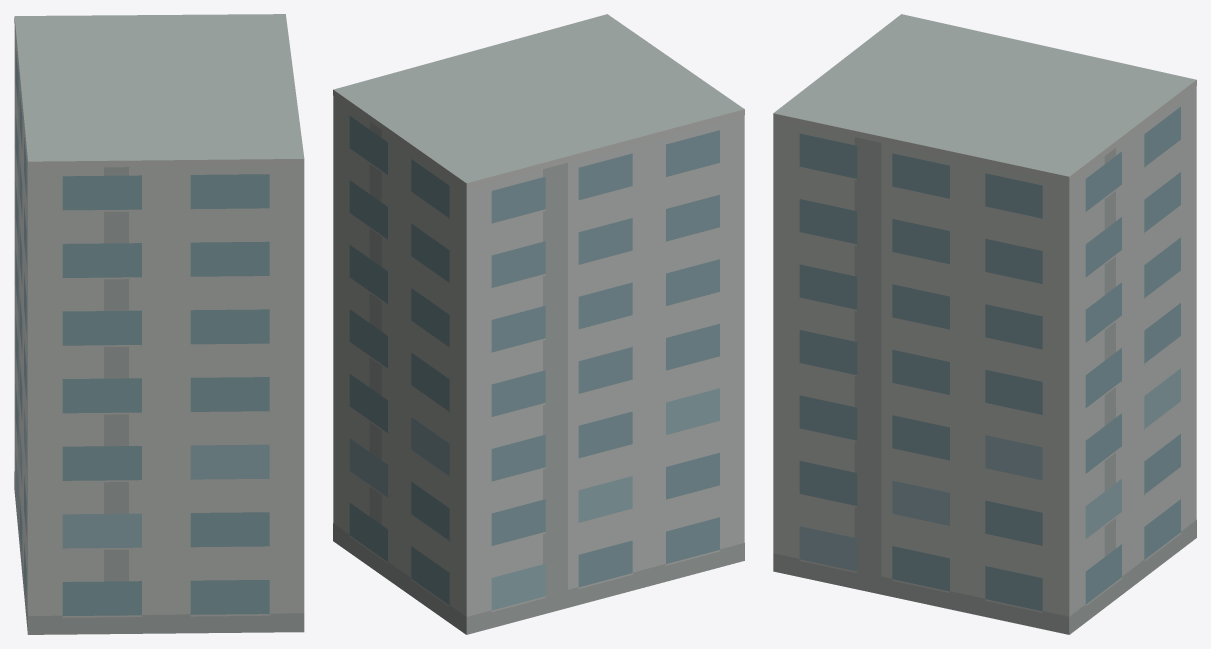
Rendered from survey-upis-32910160.glb.
The picture shows the model from 3 angles, left to right: view 1: azimuth 30°, elevation 25°; view 2: azimuth 150°, elevation 25°; view 3: azimuth 270°, elevation 25°; orthographic projection. The views are drawn at different scales.
Visible parts, largest first — view 1: survey-upis-32910160.tmp; view 2: survey-upis-32910160.tmp; view 3: survey-upis-32910160.tmp.
Boxes of the visible parts, box(x1,y1,x2,y2) form: survey-upis-32910160.tmp: box(14, 14, 304, 634); survey-upis-32910160.tmp: box(333, 14, 744, 634); survey-upis-32910160.tmp: box(773, 14, 1196, 634).
Bounding box in the file's own units: 13.5 × 17.7 × 14.84.
